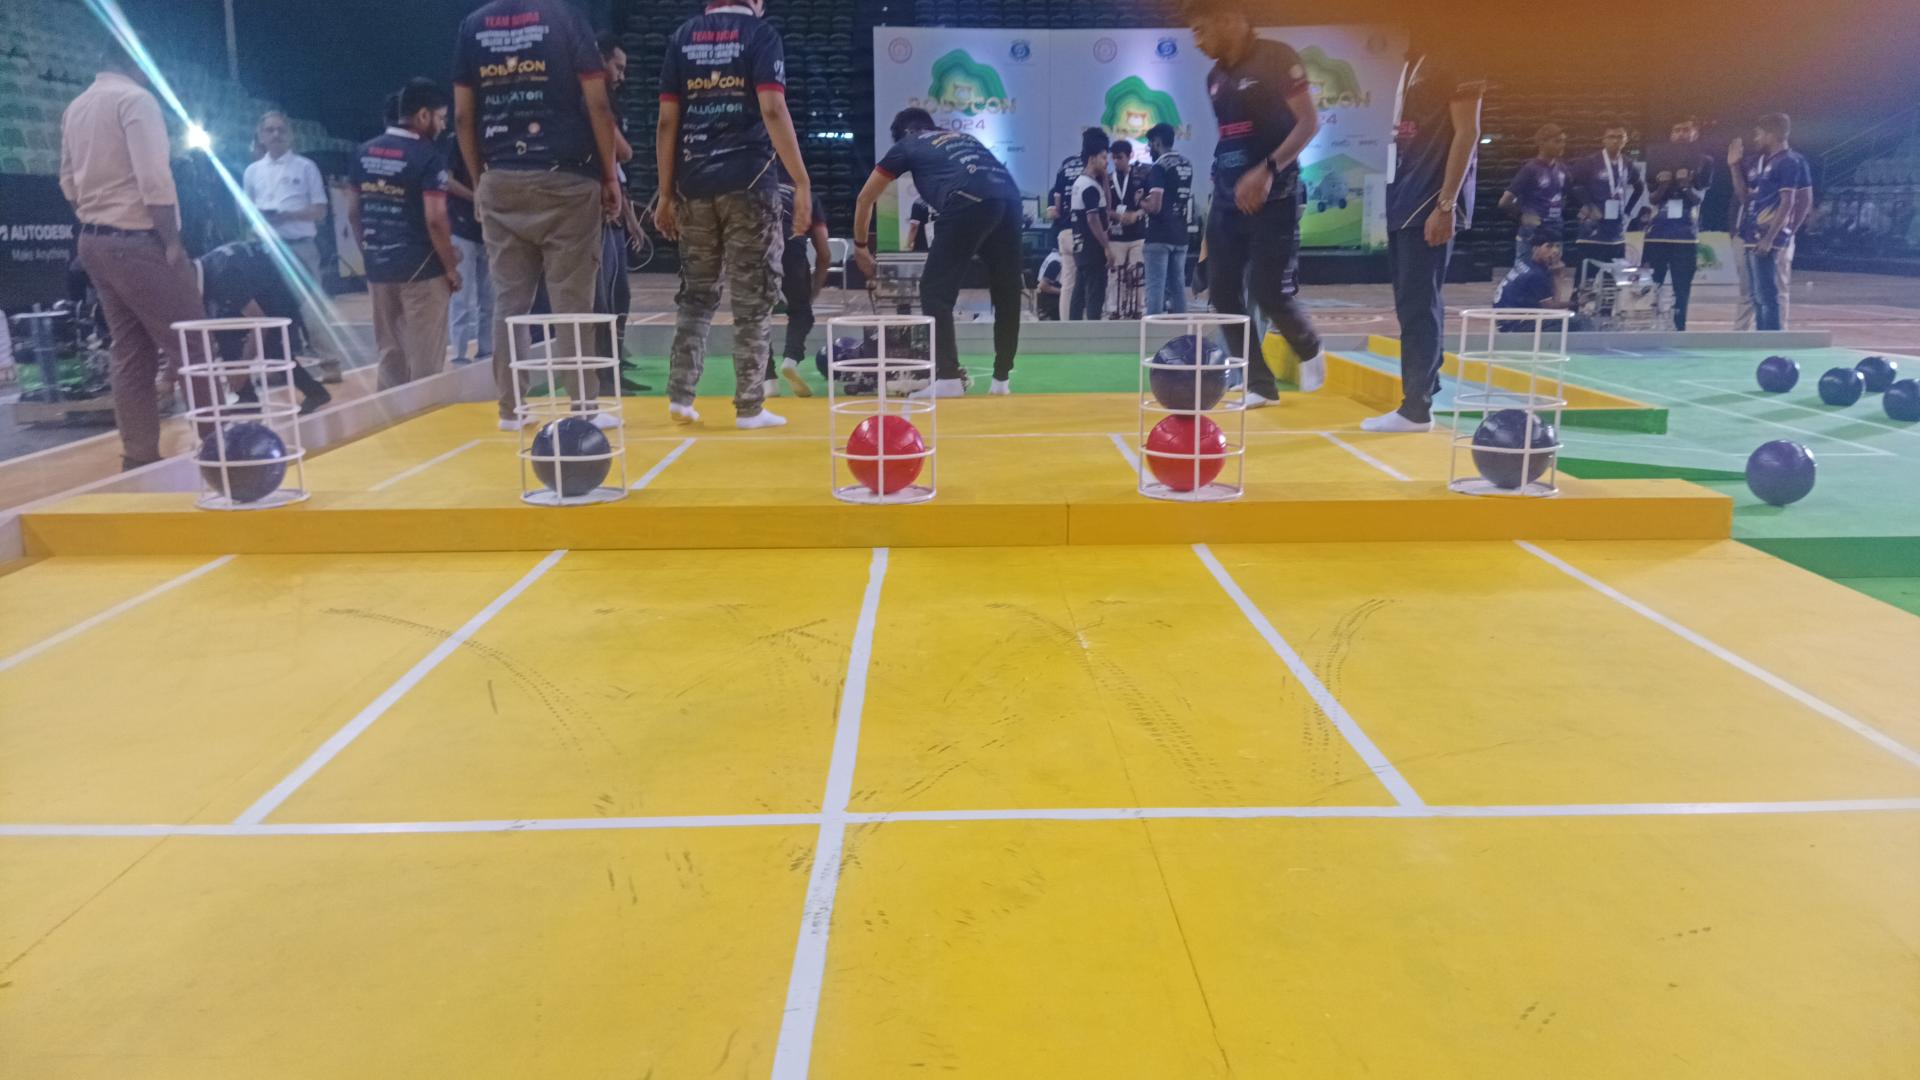dhoka: (199, 421, 285, 504), (1470, 410, 1556, 489), (533, 418, 612, 497), (1151, 335, 1226, 410)
laale: (1143, 414, 1226, 493), (848, 414, 926, 493)
